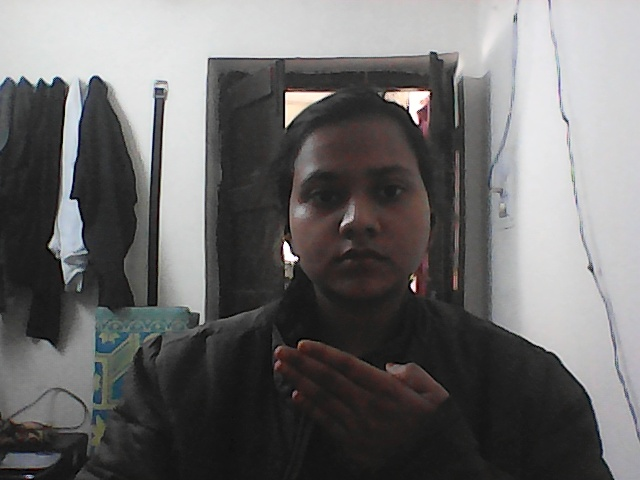Mine: (260, 318, 491, 471)
